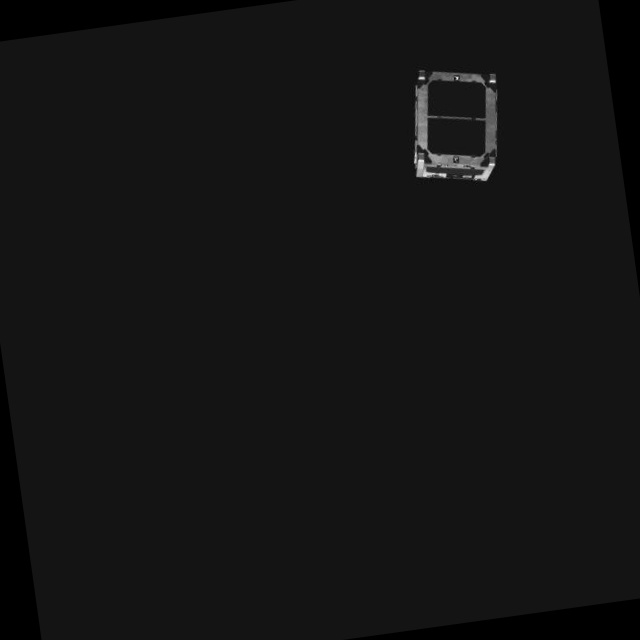satellite: (396, 61, 510, 194)
